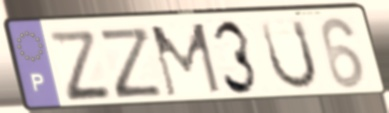3: (210, 18, 262, 97)
6: (317, 14, 371, 91)
M: (147, 20, 225, 100)
U: (257, 17, 321, 93)
Z: (44, 28, 115, 104), (96, 25, 166, 101)
